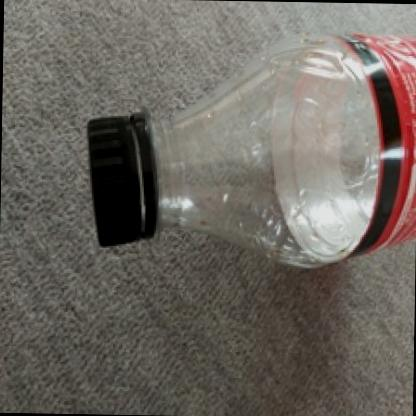plastic_bottles: (87, 30, 416, 264)
